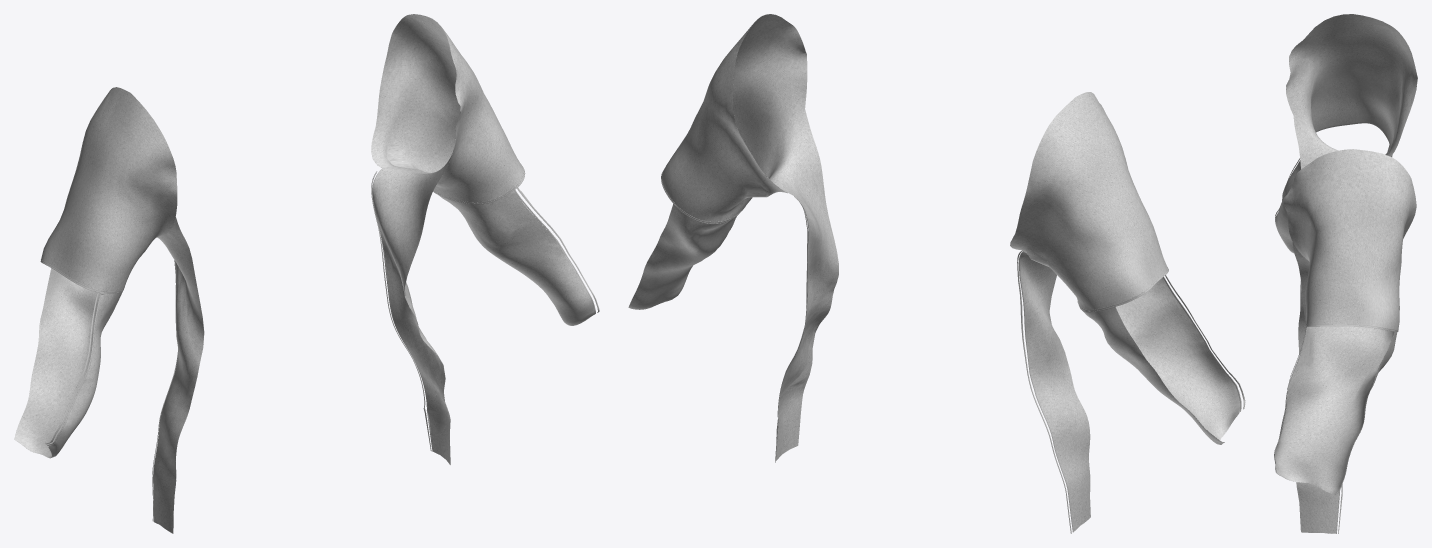
The model's file is Jac_Hands.glb.
3 renders of one model, left to right at view 1: azimuth 30°, elevation 25°; view 2: azimuth 150°, elevation 25°; view 3: azimuth 270°, elevation 25°, orthographic. The views are drawn at different scales.
Parts seen in each view (by area): view 1: Jac_Hands1, Rope1; view 2: Jac_Hands1, Rope1; view 3: Jac_Hands1, Rope1.
Boxes of the visible parts, x1,y1,x2,y2 form: Jac_Hands1: (14,14,594,533); Rope1: (40,164,599,521); Jac_Hands1: (628,14,1240,531); Rope1: (661,170,1245,533); Jac_Hands1: (1275,14,1417,533); Rope1: (1274,158,1398,533).
Size of the model in its own units: 1.39 by 1 by 0.336.
Materials: 2 (2 with a texture image).
